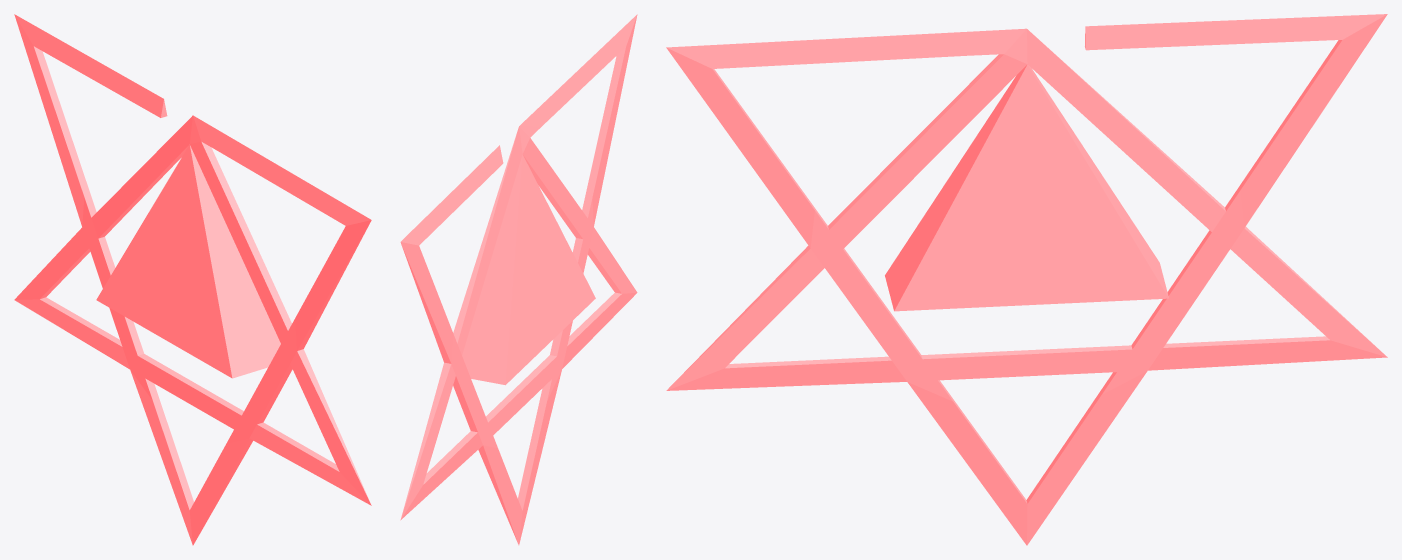
The model's file is Mars2.glb.
The picture shows the model from 3 angles, left to right: view 1: azimuth 30°, elevation 25°; view 2: azimuth 150°, elevation 25°; view 3: azimuth 270°, elevation 25°; orthographic projection. The views are drawn at different scales.
Visible parts, largest first — view 1: F_earring_PINKSTAR; view 2: F_earring_PINKSTAR; view 3: F_earring_PINKSTAR.
Boxes of the visible parts, x1,y1,x2,y2 form: F_earring_PINKSTAR: (14,14,371,545); F_earring_PINKSTAR: (400,14,637,545); F_earring_PINKSTAR: (666,14,1387,545).
Size of what is drawn, in the model's own units: 0.2264 by 1.12 by 1.42.
